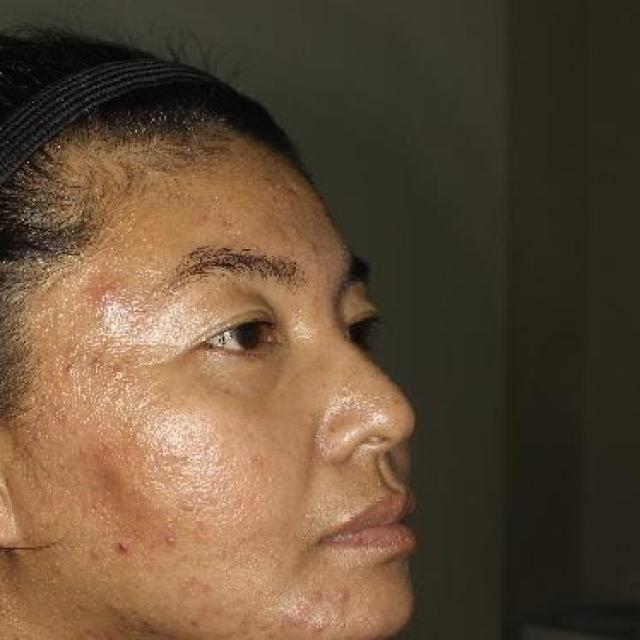papules: (84, 265, 133, 317)
